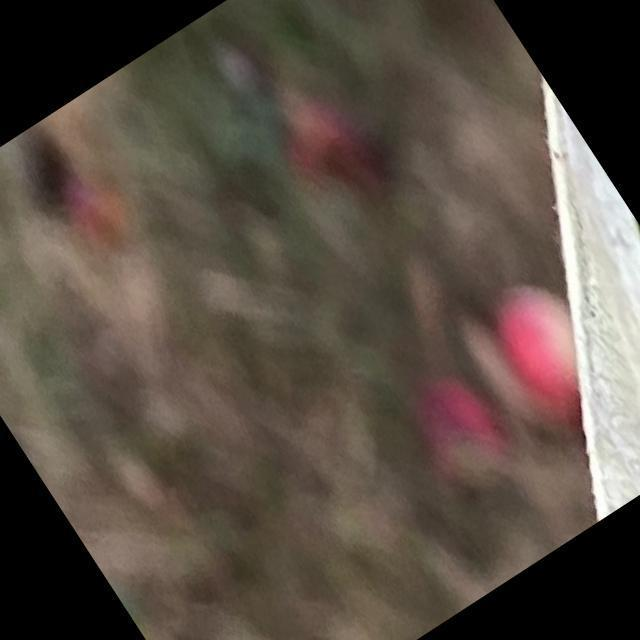Rotten Apple: (472, 264, 622, 436), (399, 366, 522, 506)
